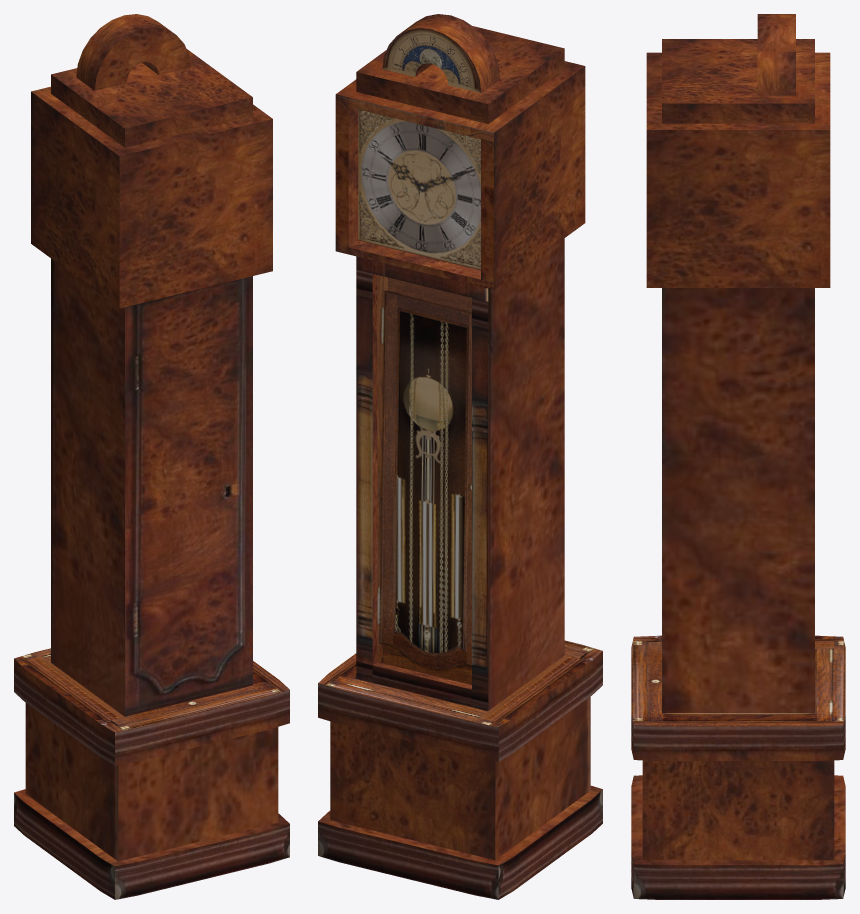
Rendered from Clock_Stand_PSX.fbx.
3 renders of one model, left to right at view 1: azimuth 30°, elevation 25°; view 2: azimuth 150°, elevation 25°; view 3: azimuth 270°, elevation 25°, orthographic. The views are drawn at different scales.
Parts seen in each view (by area): view 1: Cube; view 2: Cube; view 3: Cube.
Boxes of the visible parts, x1,y1,x2,y2 form: Cube: (14, 14, 289, 899); Cube: (318, 14, 602, 899); Cube: (631, 14, 845, 899).
Size of the model in its own units: 224 by 962 by 224.
Materials: 1 (1 with a texture image).
